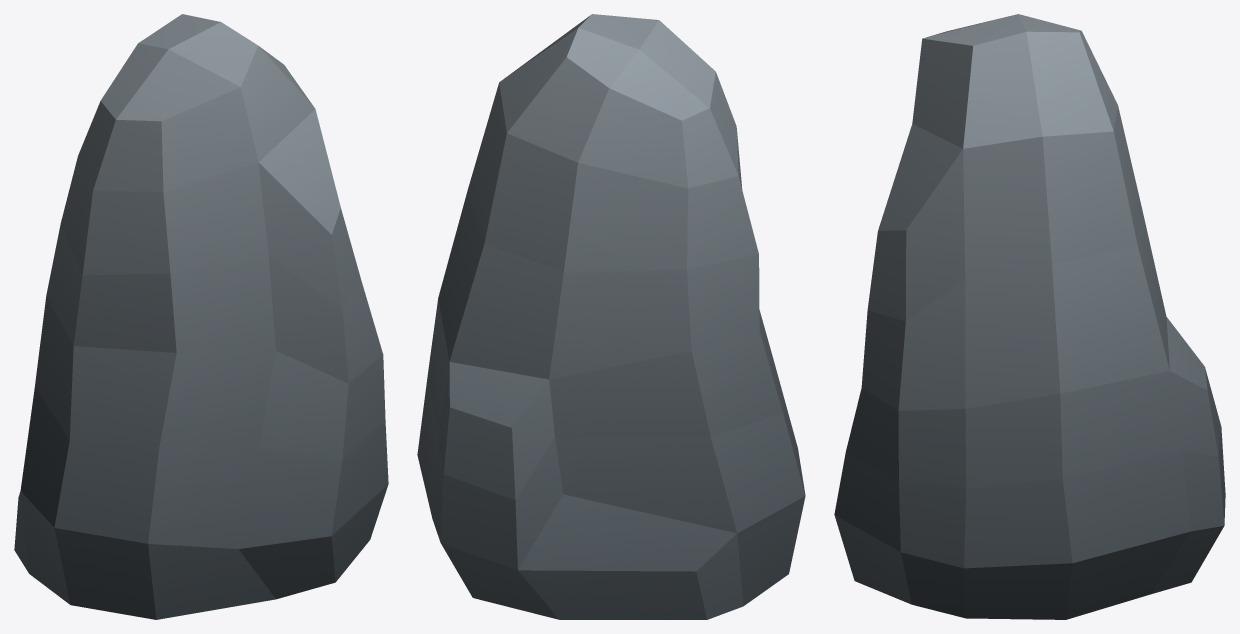
File: skała1.fbx
3 renders of one model, left to right at view 1: azimuth 30°, elevation 25°; view 2: azimuth 150°, elevation 25°; view 3: azimuth 270°, elevation 25°, orthographic. The views are drawn at different scales.
Visible parts, largest first — view 1: skała1; view 2: skała1; view 3: skała1.
Boxes of the visible parts, bbox=[...] form: skała1: bbox=[14, 14, 388, 619]; skała1: bbox=[417, 14, 805, 619]; skała1: bbox=[834, 14, 1225, 619].
Bounding box in the file's own units: 639 × 962 × 620.
